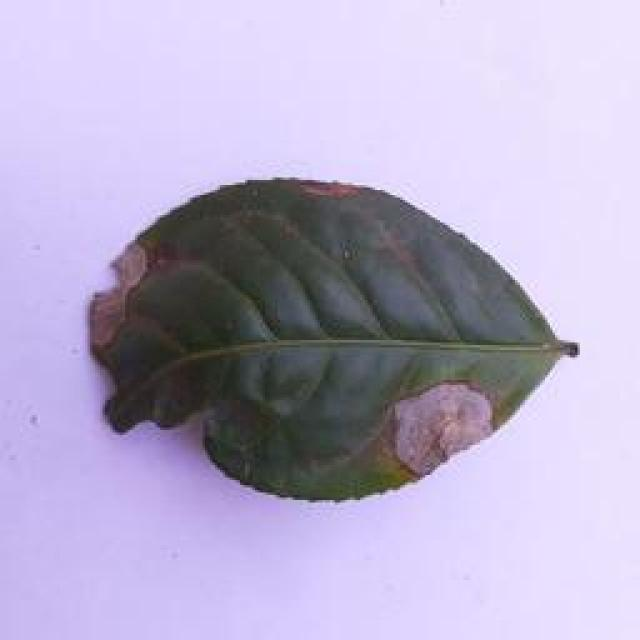Gray Blight: (82, 177, 575, 508)
